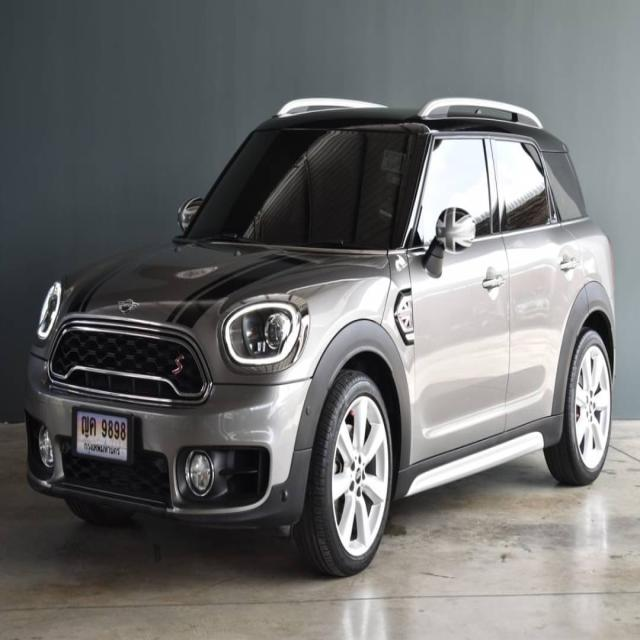license_plate: (73, 406, 134, 469)
